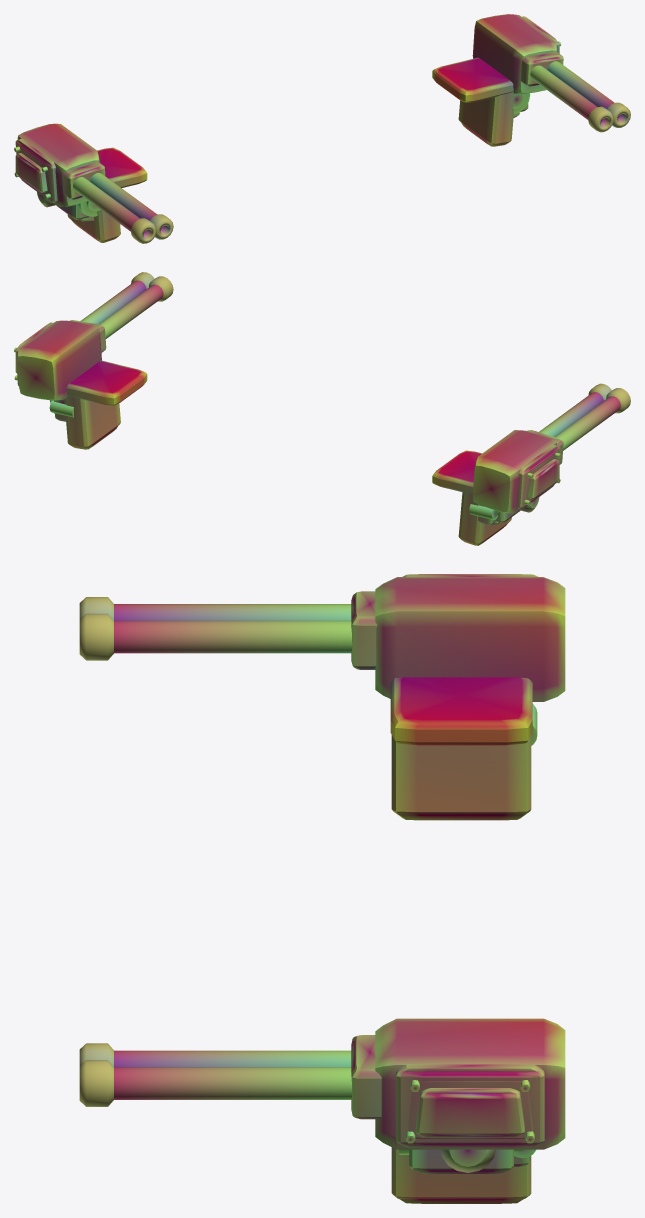
Rendered from llm_gen_shoulder_pods_077_bc6b84.glb.
3 renders of one model, top to bottom at view 1: azimuth 30°, elevation 25°; view 2: azimuth 150°, elevation 25°; view 3: azimuth 270°, elevation 25°, orthographic. The views are drawn at different scales.
Parts seen in each view (by area): view 1: adapter_shoulder_yoke_r, cannon_cradle_1_titanium_silver_r, cannon_cradle_1_titanium_silver_l, adapter_shoulder_yoke_l, beam_barrel_in_3_barrel_metal_r, beam_barrel_out_4_barrel_metal_l, cannon_side_shroud_blue_8_barrel_metal_l, beam_barrel_in_3_barrel_metal_l, beam_barrel_out_4_barrel_metal_r, adapter_sub_heatsink_bezel_dark_7_adapter_dark_l, adapter_sub_mantlet_dark_2_adapter_dark_l, adapter_sub_mantlet_dark_2_adapter_dark_r (+4 smaller); view 2: cannon_cradle_1_titanium_silver_r, adapter_shoulder_yoke_r, cannon_cradle_1_titanium_silver_l, adapter_shoulder_yoke_l, beam_barrel_out_4_barrel_metal_l, beam_barrel_in_3_barrel_metal_r, cannon_side_shroud_blue_8_barrel_metal_l, beam_barrel_in_3_barrel_metal_l, beam_barrel_out_4_barrel_metal_r, adapter_sub_heatsink_bezel_dark_7_adapter_dark_l; view 3: adapter_shoulder_yoke_l, cannon_cradle_1_titanium_silver_l, cannon_cradle_1_titanium_silver_r, beam_barrel_in_3_barrel_metal_l, beam_barrel_out_4_barrel_metal_r, cannon_side_shroud_blue_8_barrel_metal_r, adapter_shoulder_yoke_r, adapter_sub_heatsink_bezel_dark_7_adapter_dark_r, beam_barrel_out_4_barrel_metal_l, beam_barrel_in_3_barrel_metal_r, adapter_sub_mantlet_dark_2_adapter_dark_r, adapter_sub_mantlet_dark_2_adapter_dark_l (+3 smaller).
Part boxes in pixels (x1,y1,x2,y2): adapter_shoulder_yoke_r: (432, 57, 530, 146); cannon_cradle_1_titanium_silver_r: (472, 14, 557, 93); cannon_cradle_1_titanium_silver_l: (17, 123, 100, 206); adapter_shoulder_yoke_l: (56, 147, 147, 242); beam_barrel_in_3_barrel_metal_r: (530, 65, 597, 119); beam_barrel_out_4_barrel_metal_l: (73, 177, 140, 231); cannon_side_shroud_blue_8_barrel_metal_l: (14, 146, 50, 198); beam_barrel_in_3_barrel_metal_l: (90, 173, 157, 220); beam_barrel_out_4_barrel_metal_r: (547, 61, 614, 108); adapter_sub_heatsink_bezel_dark_7_adapter_dark_l: (15, 138, 57, 202); adapter_sub_mantlet_dark_2_adapter_dark_l: (62, 161, 105, 199); adapter_sub_mantlet_dark_2_adapter_dark_r: (520, 52, 563, 86); cannon_cradle_1_titanium_silver_r: (17, 320, 101, 400); adapter_shoulder_yoke_r: (50, 360, 147, 449); cannon_cradle_1_titanium_silver_l: (472, 430, 556, 513); adapter_shoulder_yoke_l: (432, 450, 520, 545); beam_barrel_out_4_barrel_metal_l: (555, 396, 620, 450); beam_barrel_in_3_barrel_metal_r: (99, 284, 163, 338); cannon_side_shroud_blue_8_barrel_metal_l: (524, 452, 560, 505); beam_barrel_in_3_barrel_metal_l: (539, 392, 603, 436); beam_barrel_out_4_barrel_metal_r: (80, 280, 146, 324); adapter_sub_heatsink_bezel_dark_7_adapter_dark_l: (517, 444, 559, 508); adapter_shoulder_yoke_l: (390, 677, 532, 820); cannon_cradle_1_titanium_silver_l: (375, 577, 565, 701); cannon_cradle_1_titanium_silver_r: (375, 1018, 565, 1149); beam_barrel_in_3_barrel_metal_l: (114, 620, 352, 653); beam_barrel_out_4_barrel_metal_r: (114, 1067, 351, 1099); cannon_side_shroud_blue_8_barrel_metal_r: (405, 1080, 534, 1143); adapter_shoulder_yoke_r: (391, 1147, 531, 1203); adapter_sub_heatsink_bezel_dark_7_adapter_dark_r: (396, 1064, 544, 1147); beam_barrel_out_4_barrel_metal_l: (114, 604, 351, 620); beam_barrel_in_3_barrel_metal_r: (114, 1050, 351, 1066); adapter_sub_mantlet_dark_2_adapter_dark_r: (351, 1035, 381, 1119); adapter_sub_mantlet_dark_2_adapter_dark_l: (351, 591, 377, 669).
Bounding box in the file's own units: 110 × 19.53 × 44.5.
